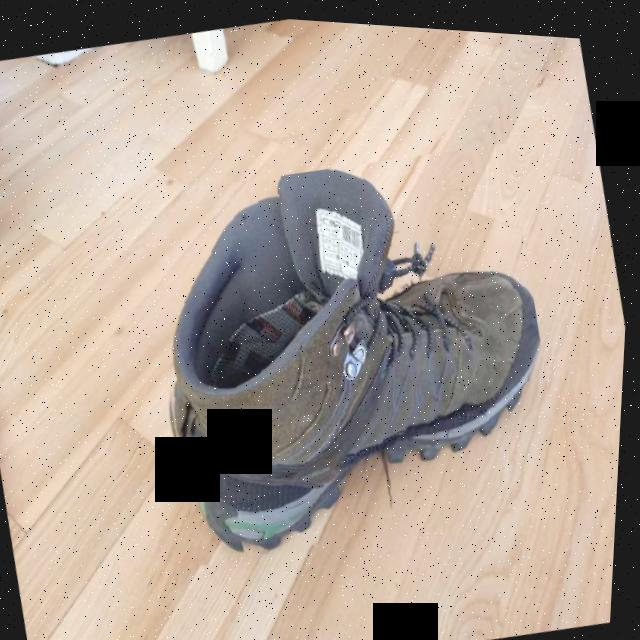shoe: (120, 115, 588, 583)
